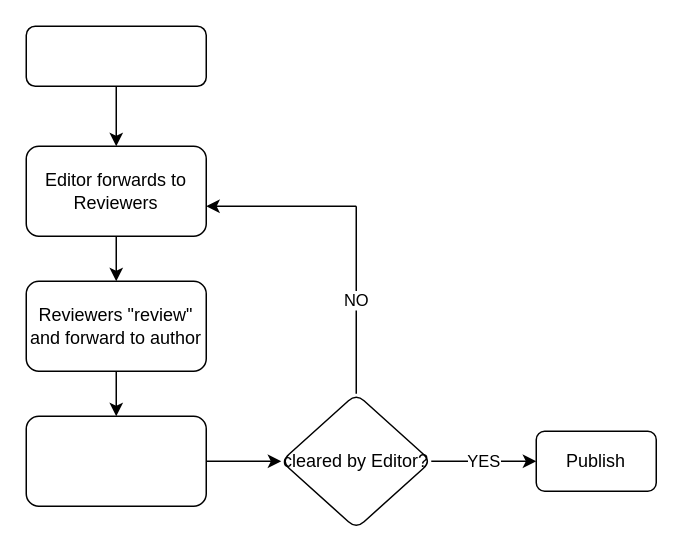
Some shapes in this 683 by 555 pixel diagram are drawn without their labels. The centre of each missing label's shape, as x and y in pixels:
"Author makes changes and submits to Editor" goes at [115,460].
"Author Submits to Editor" goes at [115,55].
